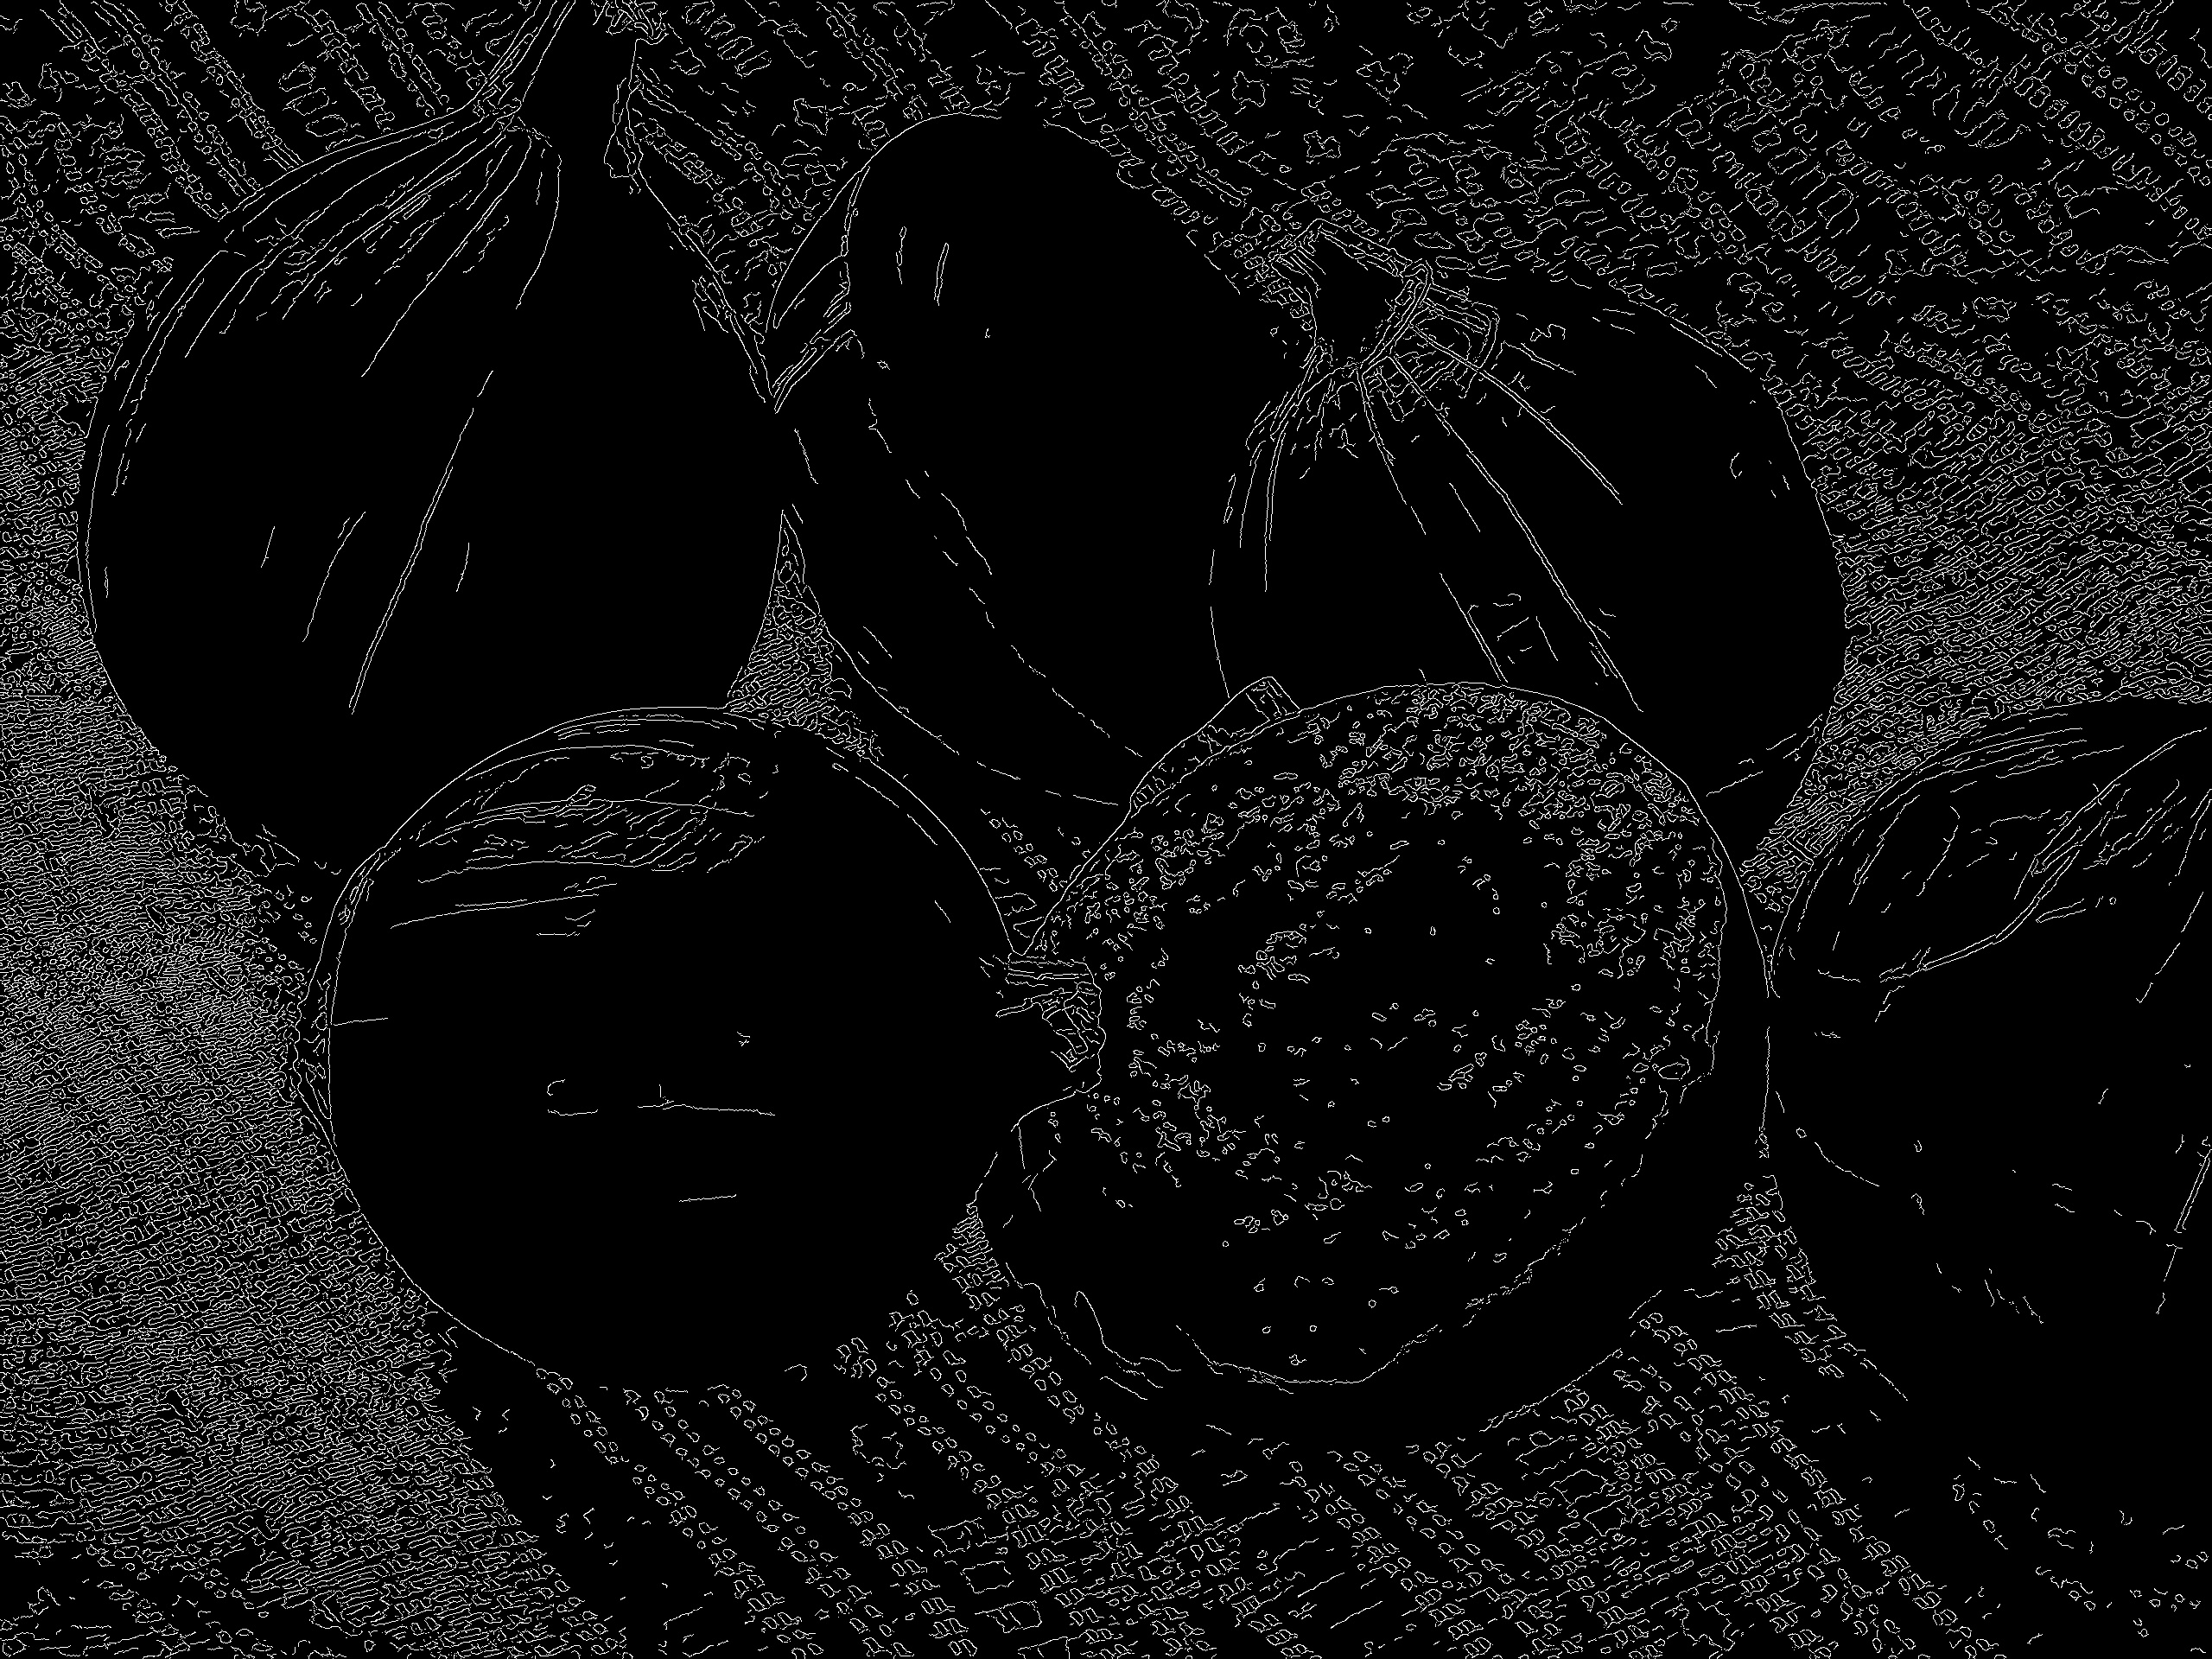onion: (984, 626, 1745, 1485), (57, 26, 754, 829), (287, 671, 1029, 1363), (1284, 179, 1872, 870), (786, 92, 1247, 809)
